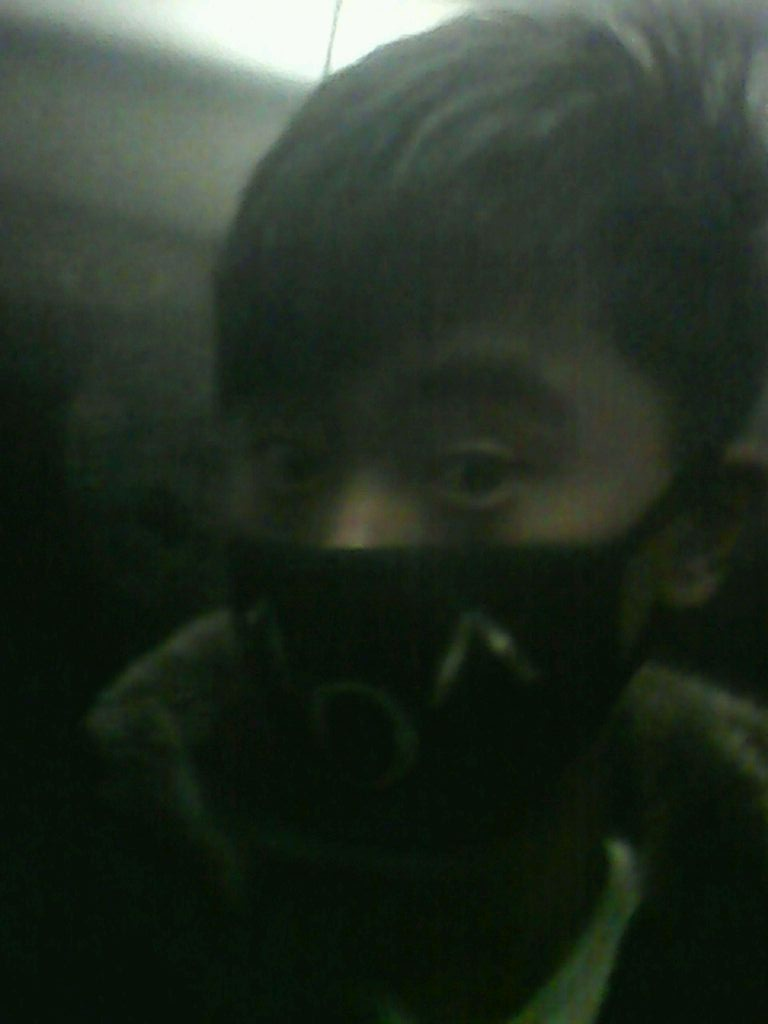face_mask: (227, 314, 620, 852)
